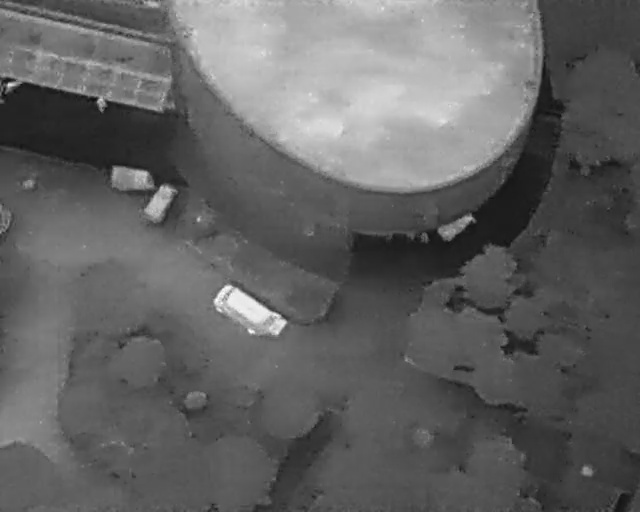Car: (207, 278, 291, 349), (139, 178, 179, 225), (109, 164, 156, 192)
Person: (97, 93, 106, 113)
